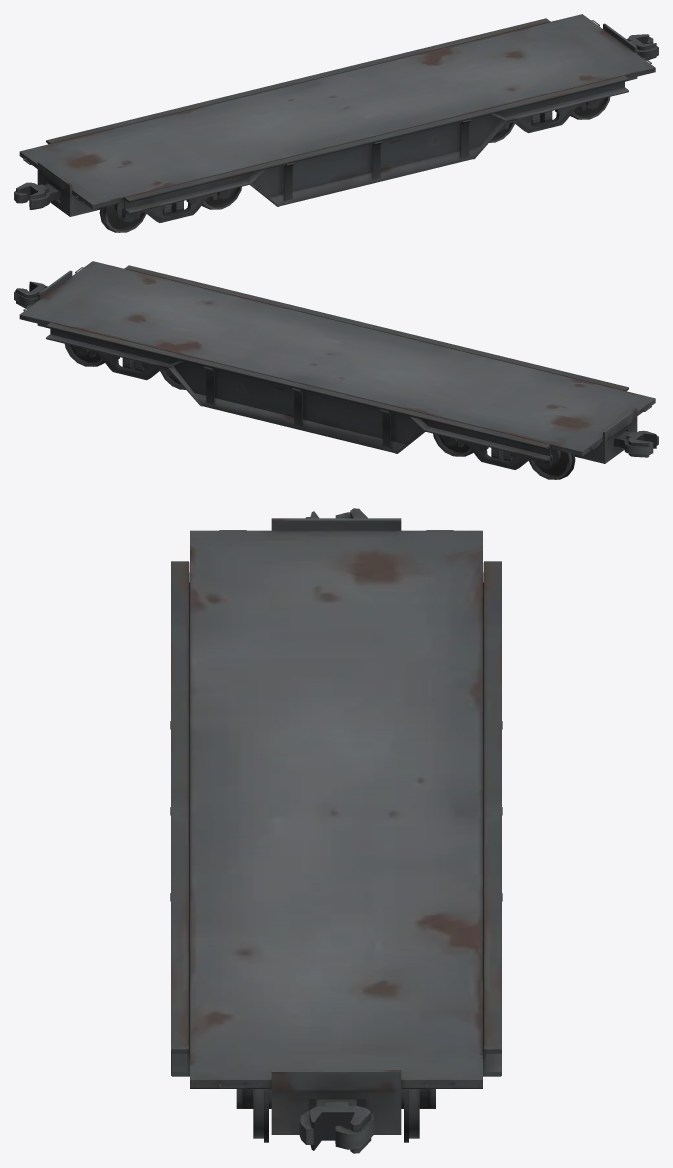
3 views of the same model, one above another, from view 1: azimuth 30°, elevation 25°; view 2: azimuth 150°, elevation 25°; view 3: azimuth 270°, elevation 25° (orthographic). The views are drawn at different scales.
Parts seen in each view (by area): view 1: body0_model0_lod0_mesh0; view 2: body0_model0_lod0_mesh0; view 3: body0_model0_lod0_mesh0.
Part boxes in pixels (x1,y1,x2,y2): body0_model0_lod0_mesh0: (14, 14, 658, 232); body0_model0_lod0_mesh0: (14, 261, 658, 479); body0_model0_lod0_mesh0: (170, 508, 502, 1153).
Bounding box in the file's own units: 611 × 53.28 × 138.
Materials: 1 (1 with a texture image).
